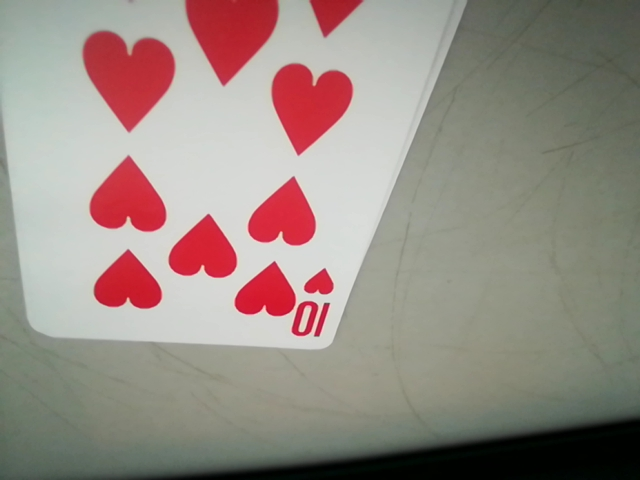hx 10: (292, 264, 334, 341)
